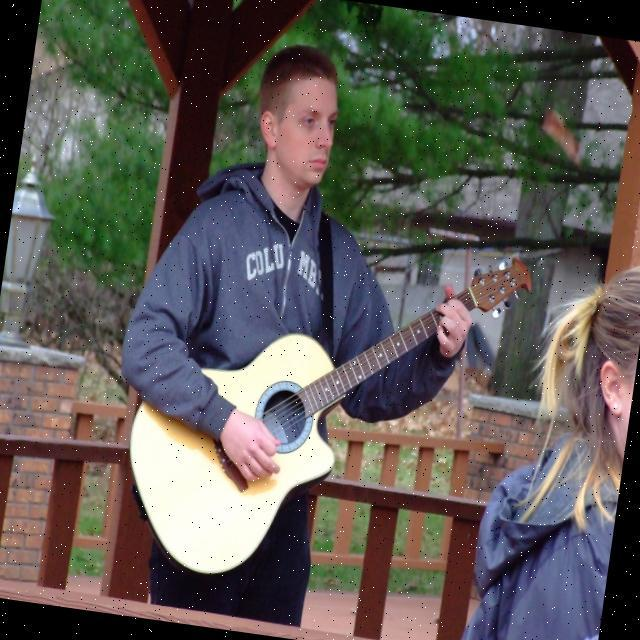acousticguitar: (130, 311, 438, 573)
